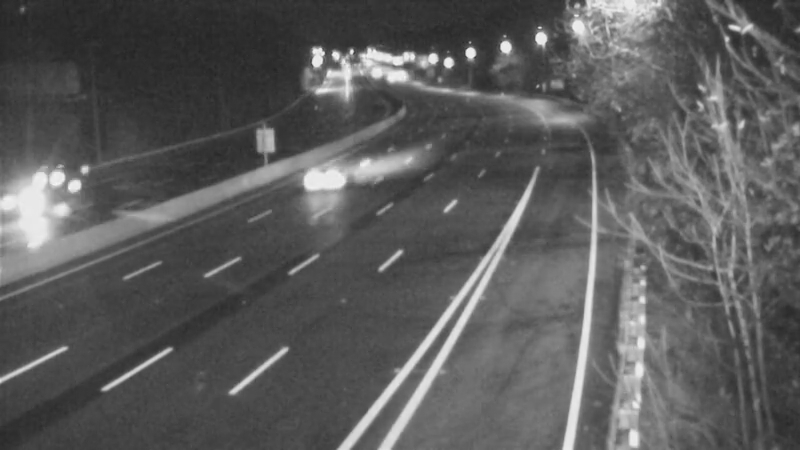vehicle: (280, 136, 360, 216), (18, 143, 98, 223), (1, 173, 76, 253)
